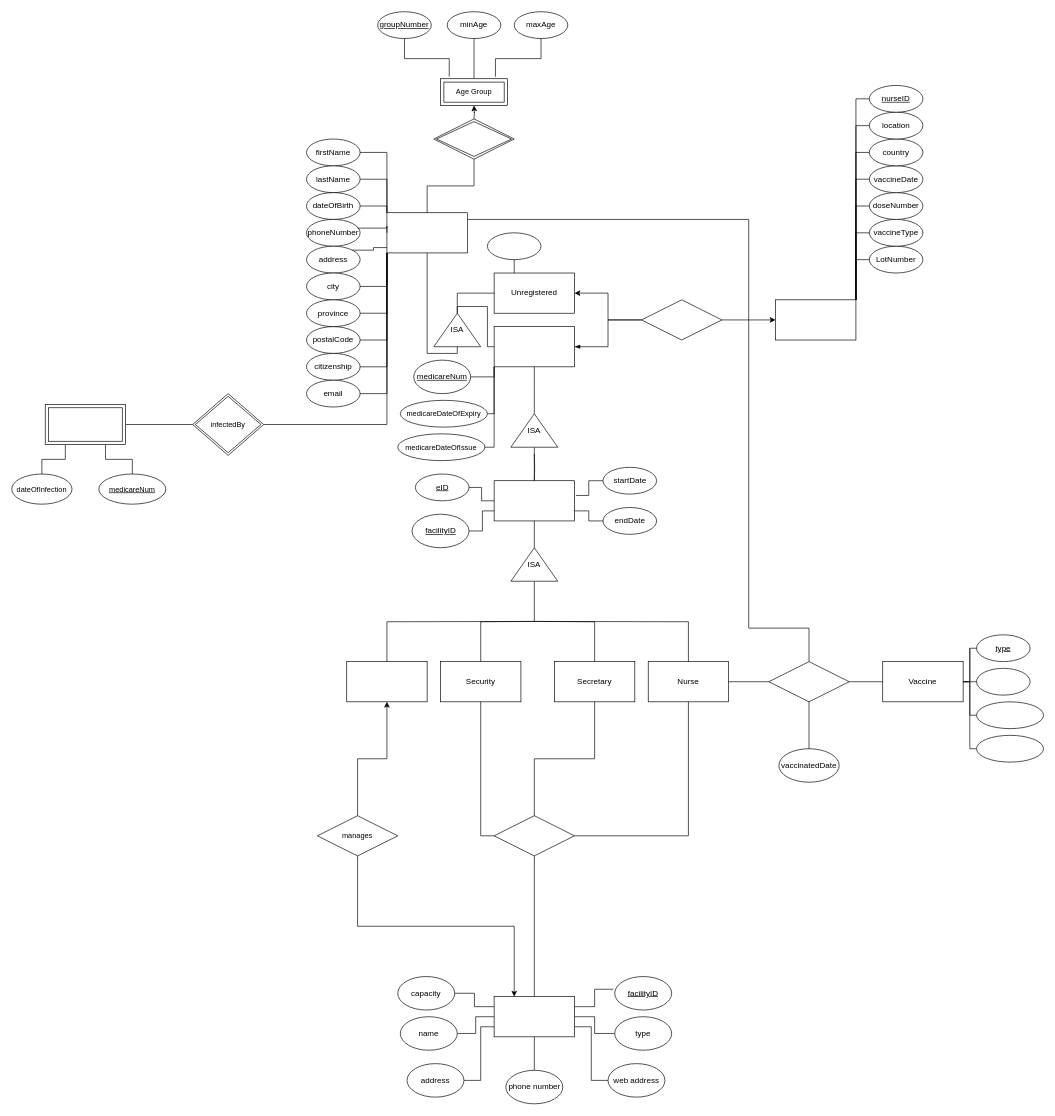
This 1055x1116 diagram has some shape labels left out. Here are the shapes that lost their labels. From the top down, the centre of each, then its label:
the point at 473,138: BelongsTo
the point at 426,232: Person
the point at 514,246: passportNum
the point at 681,319: hasBeenVaccinated
the point at 815,319: VaccineRecord
the point at 534,346: Registered
the point at 85,424: InfectionHistory
the point at 534,500: PublicHealthWorker
the point at 386,681: Manager
the point at 808,681: administers
the point at 1003,681: status
the point at 1010,715: dateOfApproval
the point at 1010,748: dateOfSuspension
the point at 534,835: worksAt
the point at 534,1016: Vaccination Facility
